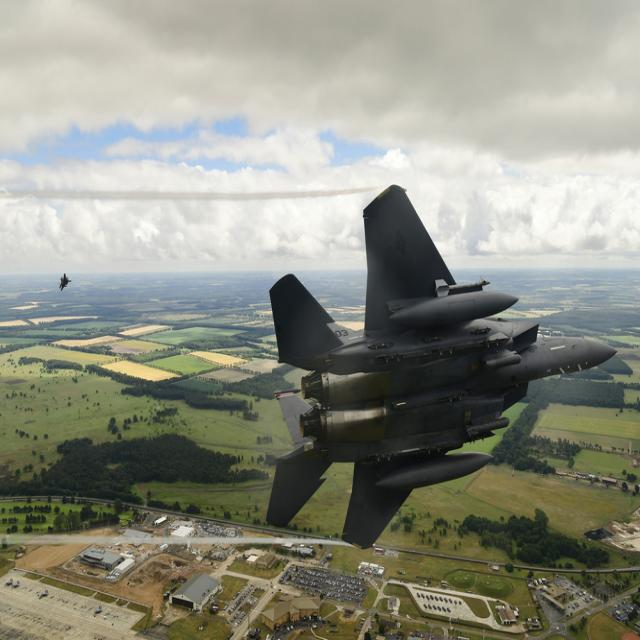MIL_Plane: (265, 183, 618, 550), (57, 272, 72, 292), (39, 588, 50, 601), (93, 605, 103, 615), (10, 580, 20, 590), (3, 578, 14, 587)
